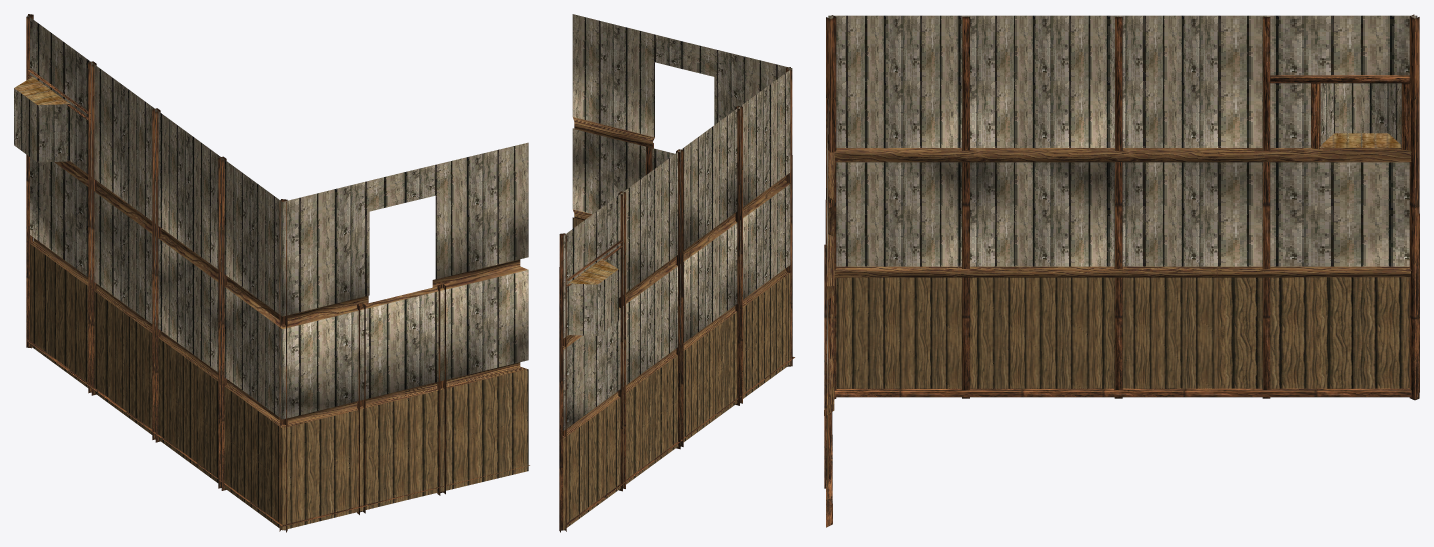
File: LAKETOWN_WAREHOUSE3_PS_WH3_SIDEWALLS77464__GX.fbx
3 renders of one model, left to right at view 1: azimuth 30°, elevation 25°; view 2: azimuth 150°, elevation 25°; view 3: azimuth 270°, elevation 25°, orthographic. The views are drawn at different scales.
Visible parts, largest first — view 1: LAKETOWN_WAREHOUSE3_PS_WH3_SIDEWALLS77464__GX; view 2: LAKETOWN_WAREHOUSE3_PS_WH3_SIDEWALLS77464__GX; view 3: LAKETOWN_WAREHOUSE3_PS_WH3_SIDEWALLS77464__GX.
Boxes of the visible parts, box(x1,y1,x2,y2) form: LAKETOWN_WAREHOUSE3_PS_WH3_SIDEWALLS77464__GX: box(14, 14, 529, 532); LAKETOWN_WAREHOUSE3_PS_WH3_SIDEWALLS77464__GX: box(559, 14, 794, 532); LAKETOWN_WAREHOUSE3_PS_WH3_SIDEWALLS77464__GX: box(824, 14, 1419, 527).
Size of the model in its own units: 111953 by 129590 by 183188.
5 materials, 5 textured.
